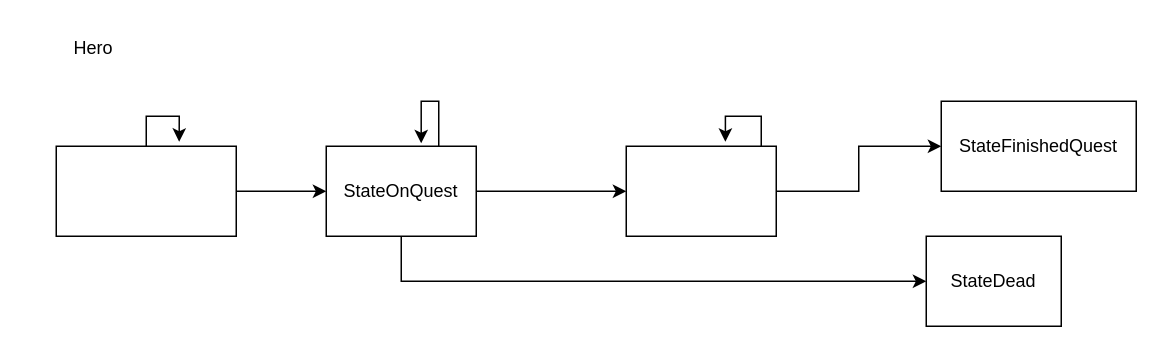
Image size: 1163x353. Some labels were removed from this diagram. Here are the shapes that lost their labels. From the top down, the centre of each, then its label:
point 145,190: StateQuestless
point 700,190: StateCombat
